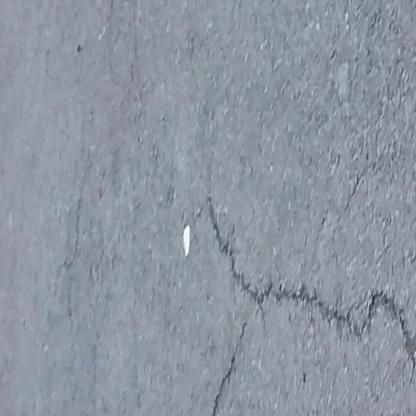Cracks: (204, 193, 357, 334), (358, 289, 416, 388), (206, 318, 252, 416)
